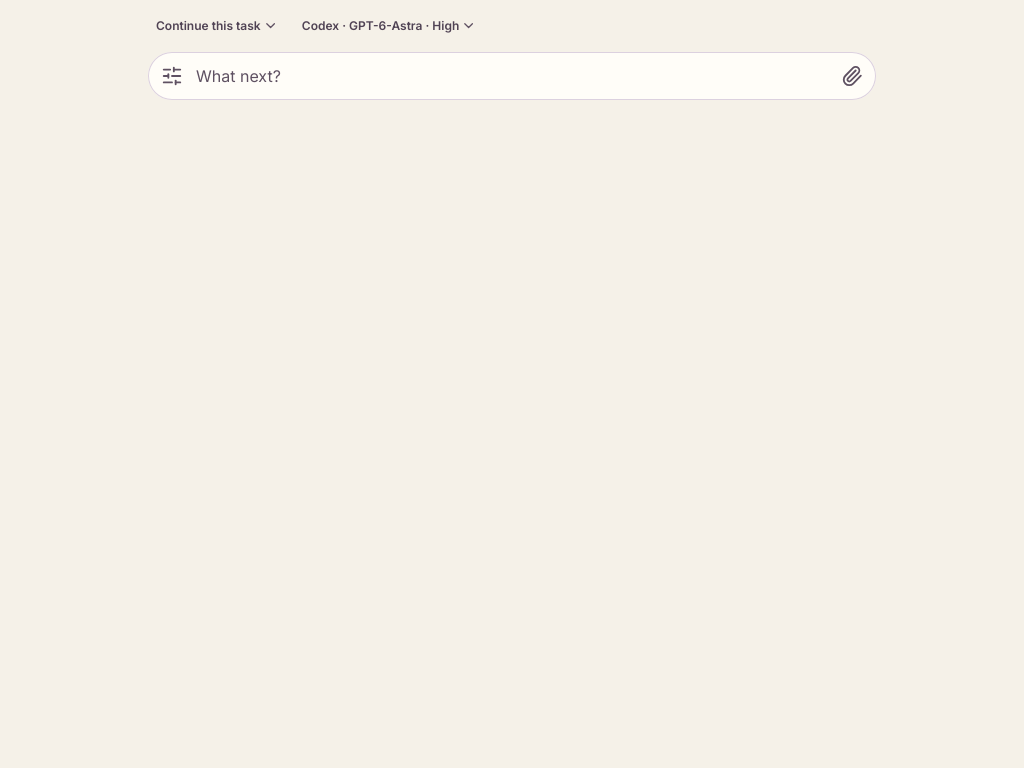
clears a carry-out notice when the draft changes
The width and height of the screenshot is (1024, 768).
Step 1. Click the button "Continue this task" → (217, 26), box [148, 8, 286, 44]
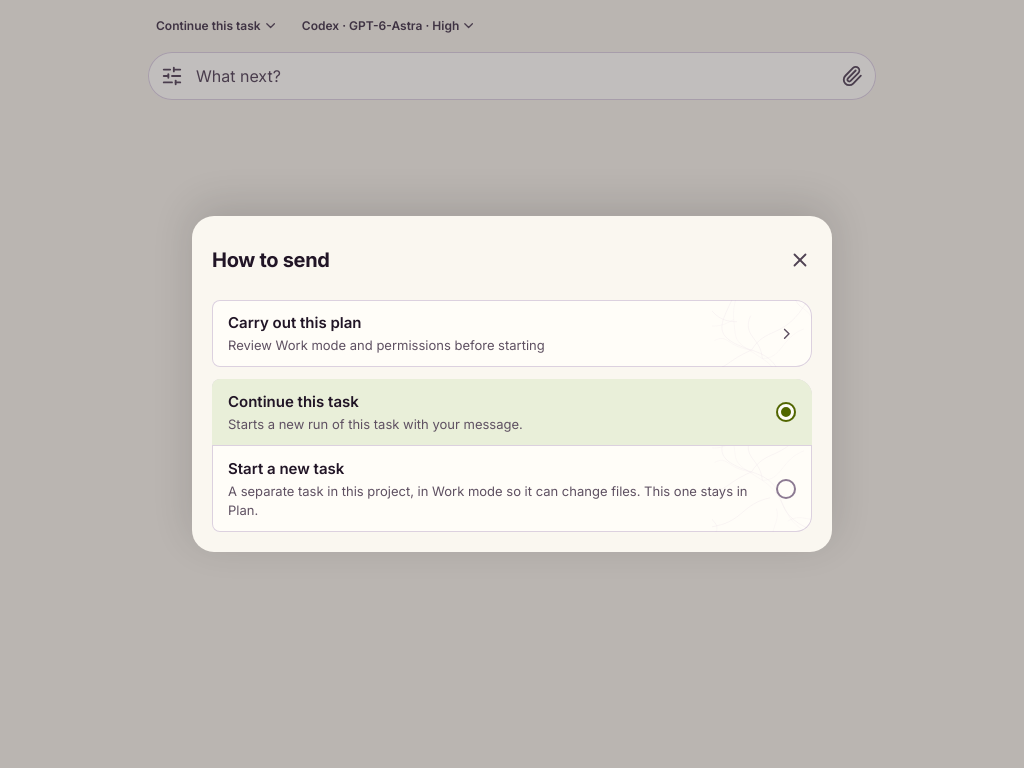
Step 2. Click the button "Carry out this plan" → (295, 323), box [212, 300, 812, 367]
Wait 500 ms
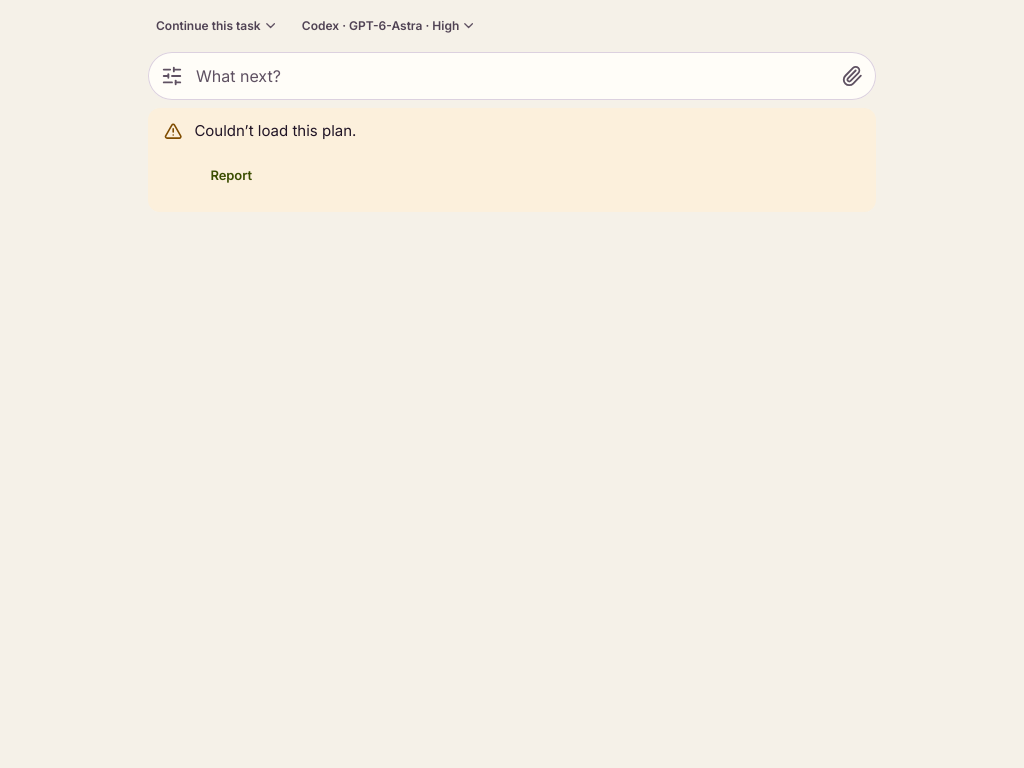
Expected: the text "Couldn’t load this plan." is shown, [194, 121, 356, 140]
Step 3. Type "Different request" into the text box → (512, 76), box [196, 52, 828, 100]
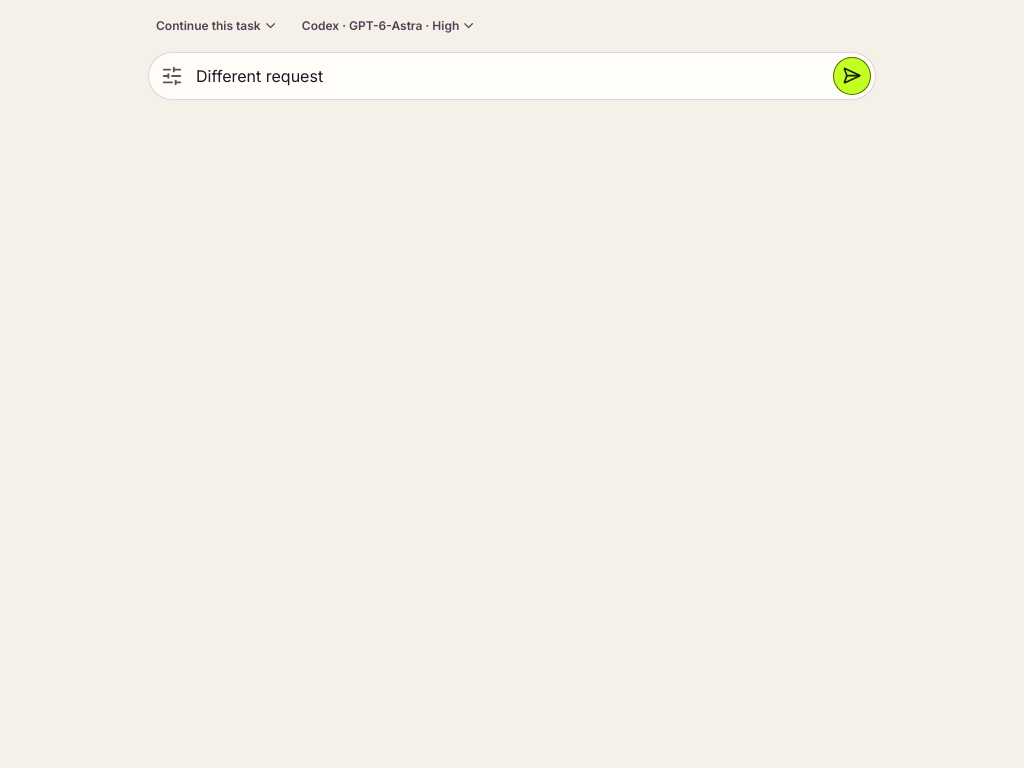
Expected: the text "Couldn’t load this plan." is gone
